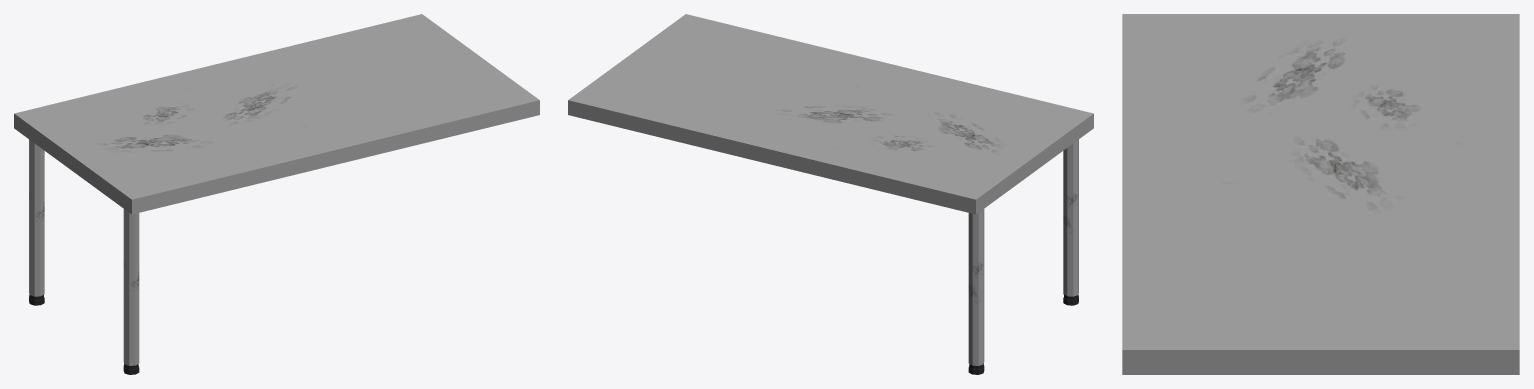
File: table.fbx
3 views of the same model, side by side, from view 1: azimuth 30°, elevation 25°; view 2: azimuth 150°, elevation 25°; view 3: azimuth 270°, elevation 25° (orthographic). The views are drawn at different scales.
Parts seen in each view (by area): view 1: pCube5, pCylinder2, pCylinder1; view 2: pCube5, pCylinder1, pCylinder2; view 3: pCube5.
Part boxes in pixels (x1,y1,x2,y2): pCube5: (14,14,539,214); pCylinder2: (123,209,139,374); pCylinder1: (29,139,44,305); pCube5: (568,14,1093,214); pCylinder1: (968,209,984,374); pCylinder2: (1063,139,1078,305); pCube5: (1122,14,1519,374).
Bounding box in the file's own units: 2 × 0.8578 × 1.
